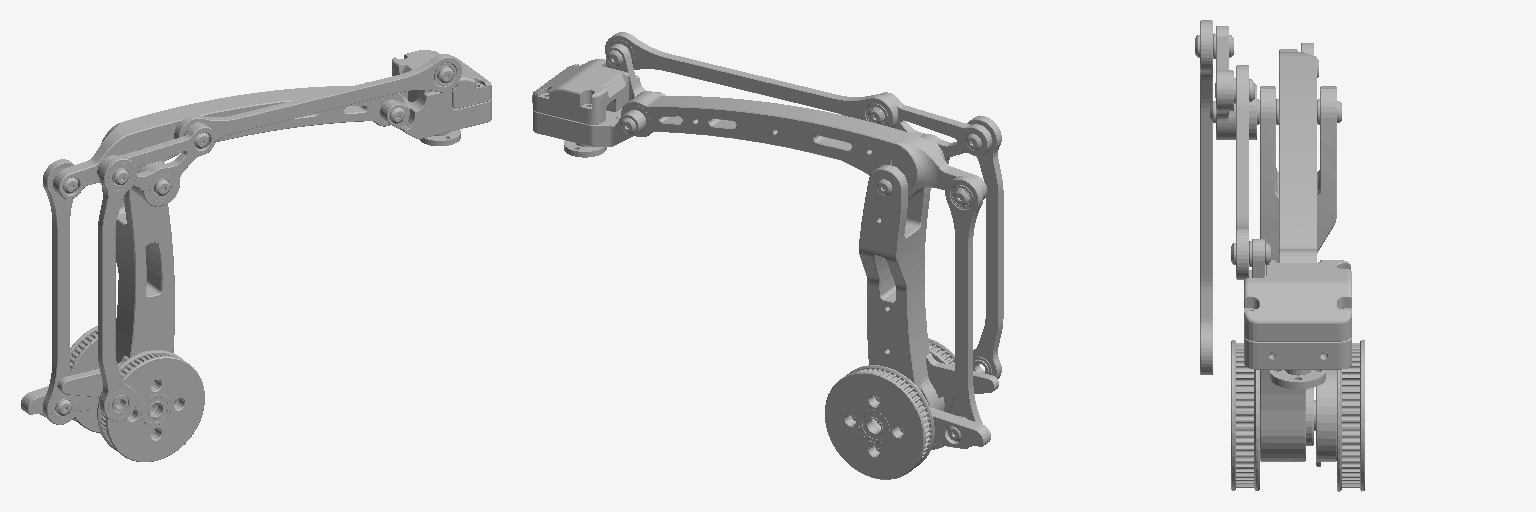
robot.urdf — wlkata_mt4_description:
<?xml version="1.0" encoding="utf-8"?>
<!-- This URDF was automatically created by SolidWorks to URDF Exporter! Originally created by Stephen Brawner (brawner@gmail.com) 
     Commit Version: 1.6.0-4-g7f85cfe  Build Version: 1.6.7995.38578
     For more information, please see http://wiki.ros.org/sw_urdf_exporter -->
<robot
  name="wlkata_mt4_description">
  <link
    name="base_link">
    <inertial>
      <origin
        xyz="0.02703 -0.00052926 0.030287"
        rpy="0 0 0" />
      <mass
        value="2.0466" />
      <inertia
        ixx="0.0019593"
        ixy="-2.3537E-06"
        ixz="2.9495E-06"
        iyy="0.0018116"
        iyz="-1.2137E-06"
        izz="0.0035737" />
    </inertial>
    <visual>
      <origin
        xyz="0 0 0"
        rpy="0 0 0" />
      <geometry>
        <mesh
          filename="package://wlkata_mt4_description/meshes/base_link.STL" />
      </geometry>
      <material
        name="">
        <color
          rgba="0.75294 0.75294 0.75294 1" />
      </material>
    </visual>
    <collision>
      <origin
        xyz="0 0 0"
        rpy="0 0 0" />
      <geometry>
        <mesh
          filename="package://wlkata_mt4_description/meshes/base_link.STL" />
      </geometry>
    </collision>
  </link>
  <link
    name="link1">
    <inertial>
      <origin
        xyz="0.0092748 -0.00018441 -0.039415"
        rpy="0 0 0" />
      <mass
        value="2.408" />
      <inertia
        ixx="0.00073683"
        ixy="-3.5891E-08"
        ixz="-7.0998E-05"
        iyy="0.0012729"
        iyz="6.892E-08"
        izz="0.0011934" />
    </inertial>
    <visual>
      <origin
        xyz="0 0 0"
        rpy="0 0 0" />
      <geometry>
        <mesh
          filename="package://wlkata_mt4_description/meshes/link1.STL" />
      </geometry>
      <material
        name="">
        <color
          rgba="0.75294 0.75294 0.75294 1" />
      </material>
    </visual>
    <collision>
      <origin
        xyz="0 0 0"
        rpy="0 0 0" />
      <geometry>
        <mesh
          filename="package://wlkata_mt4_description/meshes/link1.STL" />
      </geometry>
    </collision>
  </link>
  <joint
    name="joint1"
    type="revolute">
    <origin
      xyz="0 0 0.14"
      rpy="0 0 0" />
    <parent
      link="base_link" />
    <child
      link="link1" />
    <axis
      xyz="0 0 1" />
    <limit
      lower="-2.094"
      upper="2.443"
      effort="100.1"
      velocity="3.14" />
  </joint>
  <link
    name="link2">
    <inertial>
      <origin
        xyz="0.00164684229395519 -0.0395683489030114 -0.00868750450635196"
        rpy="0 0 0" />
      <mass
        value="0.710878068128731" />
      <inertia
        ixx="0.000932704854635179"
        ixy="3.31522799537786E-07"
        ixz="8.00522543080623E-07"
        iyy="0.000109060102432217"
        iyz="4.44610873064812E-05"
        izz="0.000976430617308653" />
    </inertial>
    <visual>
      <origin
        xyz="0 0 0"
        rpy="0 0 0" />
      <geometry>
        <mesh
          filename="package://wlkata_mt4_description/meshes/link2.STL" />
      </geometry>
      <material
        name="">
        <color
          rgba="0.752941176470588 0.752941176470588 0.752941176470588 1" />
      </material>
    </visual>
    <collision>
      <origin
        xyz="0 0 0"
        rpy="0 0 0" />
      <geometry>
        <mesh
          filename="package://wlkata_mt4_description/meshes/link2.STL" />
      </geometry>
    </collision>
  </link>
  <joint
    name="joint2"
    type="revolute">
    <origin
      xyz="0.046 0 0"
      rpy="-1.5708 0 0" />
    <parent
      link="link1" />
    <child
      link="link2" />
    <axis
      xyz="0 0 1" />
    <limit
      lower="-0.575"
      upper="0.994"
      effort="100.1"
      velocity="3.14" />
  </joint>
  <link
    name="link5">
    <inertial>
      <origin
        xyz="-0.000398083211439859 -0.00844918862583643 -0.0264979652131019"
        rpy="0 0 0" />
      <mass
        value="0.0832782808336382" />
      <inertia
        ixx="7.87783820445832E-06"
        ixy="1.2365433026123E-06"
        ixz="-3.05548807270531E-07"
        iyy="1.64719975974359E-05"
        iyz="-1.28549309751977E-06"
        izz="2.19922200829749E-05" />
    </inertial>
    <visual>
      <origin
        xyz="0 0 0"
        rpy="0 0 0" />
      <geometry>
        <mesh
          filename="package://wlkata_mt4_description/meshes/link5.STL" />
      </geometry>
      <material
        name="">
        <color
          rgba="0.752941176470588 0.752941176470588 0.752941176470588 1" />
      </material>
    </visual>
    <collision>
      <origin
        xyz="0 0 0"
        rpy="0 0 0" />
      <geometry>
        <mesh
          filename="package://wlkata_mt4_description/meshes/link5.STL" />
      </geometry>
    </collision>
  </link>
  <joint
    name="joint5"
    type="continuous">
    <origin
      xyz="0 -0.13 0"
      rpy="0 0 0" />
    <parent
      link="link2" />
    <child
      link="link5" />
    <axis
      xyz="0 0 -1" />
    <mimic
      joint="joint2"
      multiplier="1"
      offset="0" />
  </joint>
  <link
    name="link3">
    <inertial>
      <origin
        xyz="0.0548052349762136 -0.00832969977765713 -0.000233681966134227"
        rpy="0 0 0" />
      <mass
        value="0.384078376095662" />
      <inertia
        ixx="2.76979706890859E-05"
        ixy="-1.30973106427895E-05"
        ixz="-7.02719520417806E-06"
        iyy="0.00101454549136257"
        iyz="4.11637178095307E-07"
        izz="0.00102898731974257" />
    </inertial>
    <visual>
      <origin
        xyz="0 0 0"
        rpy="0 0 0" />
      <geometry>
        <mesh
          filename="package://wlkata_mt4_description/meshes/link3.STL" />
      </geometry>
      <material
        name="">
        <color
          rgba="0.752941176470588 0.752941176470588 0.752941176470588 1" />
      </material>
    </visual>
    <collision>
      <origin
        xyz="0 0 0"
        rpy="0 0 0" />
      <geometry>
        <mesh
          filename="package://wlkata_mt4_description/meshes/link3.STL" />
      </geometry>
    </collision>
  </link>
  <joint
    name="joint3"
    type="revolute">
    <origin
      xyz="0 0 0"
      rpy="0 0 0" />
    <parent
      link="link5" />
    <child
      link="link3" />
    <axis
      xyz="0 0 1" />
    <limit
      lower="-0.244"
      upper="0.994"
      effort="100.1"
      velocity="3.14" />
  </joint>
  <link
    name="link6">
    <inertial>
      <origin
        xyz="0.0302922081649755 -0.00126749630980938 0.00126987704683693"
        rpy="0 0 0" />
      <mass
        value="0.295630442014825" />
      <inertia
        ixx="5.75384337469486E-05"
        ixy="6.01160743822192E-06"
        ixz="4.11650139108646E-07"
        iyy="9.95695431877672E-05"
        iyz="-4.40972127717323E-06"
        izz="6.44078564975212E-05" />
    </inertial>
    <visual>
      <origin
        xyz="0 0 0"
        rpy="0 0 0" />
      <geometry>
        <mesh
          filename="package://wlkata_mt4_description/meshes/link6.STL" />
      </geometry>
      <material
        name="">
        <color
          rgba="0.752941176470588 0.752941176470588 0.752941176470588 1" />
      </material>
    </visual>
    <collision>
      <origin
        xyz="0 0 0"
        rpy="0 0 0" />
      <geometry>
        <mesh
          filename="package://wlkata_mt4_description/meshes/link6.STL" />
      </geometry>
    </collision>
  </link>
  <joint
    name="joint6"
    type="continuous">
    <origin
      xyz="0.15 0 0"
      rpy="-3.1416 0 0" />
    <parent
      link="link3" />
    <child
      link="link6" />
    <axis
      xyz="0 0 -1" />
    <mimic
      joint="joint3"
      multiplier="-1"
      offset="0" />
  </joint>
  <link
    name="link4">
    <inertial>
      <origin
        xyz="-3.62722907265578E-10 -1.47645093697032E-09 0.00403306620385582"
        rpy="0 0 0" />
      <mass
        value="0.0137742689049151" />
      <inertia
        ixx="4.84102067021234E-07"
        ixy="1.4786634242315E-09"
        ixz="2.05307036870248E-14"
        iyy="4.84102314201502E-07"
        iyz="8.0411428033963E-14"
        izz="5.95069606748532E-07" />
    </inertial>
    <visual>
      <origin
        xyz="0 0 0"
        rpy="0 0 0" />
      <geometry>
        <mesh
          filename="package://wlkata_mt4_description/meshes/link4.STL" />
      </geometry>
      <material
        name="">
        <color
          rgba="0.752941176470588 0.752941176470588 0.752941176470588 1" />
      </material>
    </visual>
    <collision>
      <origin
        xyz="0 0 0"
        rpy="0 0 0" />
      <geometry>
        <mesh
          filename="package://wlkata_mt4_description/meshes/link4.STL" />
      </geometry>
    </collision>
  </link>
  <joint
    name="joint4"
    type="revolute">
    <origin
      xyz="0.035 -0.027431 0"
      rpy="-1.5708 0 0" />
    <parent
      link="link6" />
    <child
      link="link4" />
    <axis
      xyz="0 0 1" />
    <limit
      lower="-3.141"
      upper="3.141"
      effort="100.1"
      velocity="3.14" />
  </joint>
  <link
    name="link8">
    <inertial>
      <origin
        xyz="-2.96984659087229E-15 -1.66533453693773E-16 3.15625799456324E-05"
        rpy="0 0 0" />
      <mass
        value="0.00404919792872912" />
      <inertia
        ixx="3.4021543206253E-08"
        ixy="-2.57664522482417E-26"
        ixz="4.61691223340672E-25"
        iyy="3.4021543206253E-08"
        iyz="1.951345004771E-23"
        izz="2.53236484097191E-08" />
    </inertial>
    <visual>
      <origin
        xyz="0 0 0"
        rpy="0 0 0" />
      <geometry>
        <mesh
          filename="package://wlkata_mt4_description/meshes/link8.STL" />
      </geometry>
      <material
        name="">
        <color
          rgba="0.752941176470588 0.752941176470588 0.752941176470588 1" />
      </material>
    </visual>
    <collision>
      <origin
        xyz="0 0 0"
        rpy="0 0 0" />
      <geometry>
        <mesh
          filename="package://wlkata_mt4_description/meshes/link8.STL" />
      </geometry>
    </collision>
  </link>
  <joint
    name="joint8"
    type="continuous">
    <origin
      xyz="-0.04 0 0"
      rpy="-3.1416 0 0" />
    <parent
      link="link3" />
    <child
      link="link8" />
    <axis
      xyz="0 0 -1" />
    <mimic
      joint="joint2"
      multiplier="1"
      offset="0" />
  </joint>
  <link
    name="link9">
    <inertial>
      <origin
        xyz="1.84634564581732E-11 -0.0649999992918987 -0.00347881894556013"
        rpy="0 0 0" />
      <mass
        value="0.0621687149810038" />
      <inertia
        ixx="0.000100281936424922"
        ixy="5.61613051773521E-18"
        ixz="-7.28578915786166E-16"
        iyy="1.05555754907866E-06"
        iyz="-4.73848869447179E-16"
        izz="0.000101078348871111" />
    </inertial>
    <visual>
      <origin
        xyz="0 0 0"
        rpy="0 0 0" />
      <geometry>
        <mesh
          filename="package://wlkata_mt4_description/meshes/link9.STL" />
      </geometry>
      <material
        name="">
        <color
          rgba="0.752941176470588 0.752941176470588 0.752941176470588 1" />
      </material>
    </visual>
    <collision>
      <origin
        xyz="0 0 0"
        rpy="0 0 0" />
      <geometry>
        <mesh
          filename="package://wlkata_mt4_description/meshes/link9.STL" />
      </geometry>
    </collision>
  </link>
  <joint
    name="joint9"
    type="continuous">
    <origin
      xyz="0 0 0"
      rpy="0 0 0" />
    <parent
      link="link8" />
    <child
      link="link9" />
    <axis
      xyz="0 0 -1" />
    <mimic
      joint="joint3"
      multiplier="-1"
      offset="0" />
  </joint>
  <link
    name="link7">
    <inertial>
      <origin
        xyz="0.074999991135837 1.54999402202094E-10 0.021500000231994"
        rpy="0 0 0" />
      <mass
        value="0.0684204461957199" />
      <inertia
        ixx="1.10159445080306E-06"
        ixy="5.62174417731939E-20"
        ixz="-1.23416483281998E-07"
        iyy="0.000145117090911186"
        iyz="3.49869663483512E-13"
        izz="0.000145933593046846" />
    </inertial>
    <visual>
      <origin
        xyz="0 0 0"
        rpy="0 0 0" />
      <geometry>
        <mesh
          filename="package://wlkata_mt4_description/meshes/link7.STL" />
      </geometry>
      <material
        name="">
        <color
          rgba="0.752941176470588 0.752941176470588 0.752941176470588 1" />
      </material>
    </visual>
    <collision>
      <origin
        xyz="0 0 0"
        rpy="0 0 0" />
      <geometry>
        <mesh
          filename="package://wlkata_mt4_description/meshes/link7.STL" />
      </geometry>
    </collision>
  </link>
  <joint
    name="joint7"
    type="continuous">
    <origin
      xyz="0.024513 -0.020569 0"
      rpy="-3.1416 0 0" />
    <parent
      link="link5" />
    <child
      link="link7" />
    <axis
      xyz="0 0 1" />
    <mimic
      joint="joint3"
      multiplier="-1"
      offset="0" />
  </joint>
  <link
    name="link10">
    <inertial>
      <origin
        xyz="-0.00373573701414555 -0.0649999910552738 -0.0355215951408583"
        rpy="0 0 0" />
      <mass
        value="0.0609758190138201" />
      <inertia
        ixx="9.67051036157404E-05"
        ixy="-6.03490499058941E-18"
        ixz="-7.54325349984243E-09"
        iyy="1.43113021009284E-06"
        iyz="3.22111491821249E-14"
        izz="9.78820902491419E-05" />
    </inertial>
    <visual>
      <origin
        xyz="0 0 0"
        rpy="0 0 0" />
      <geometry>
        <mesh
          filename="package://wlkata_mt4_description/meshes/link10.STL" />
      </geometry>
      <material
        name="">
        <color
          rgba="0.752941176470588 0.752941176470588 0.752941176470588 1" />
      </material>
    </visual>
    <collision>
      <origin
        xyz="0 0 0"
        rpy="0 0 0" />
      <geometry>
        <mesh
          filename="package://wlkata_mt4_description/meshes/link10.STL" />
      </geometry>
    </collision>
  </link>
  <joint
    name="joint10"
    type="continuous">
    <origin
      xyz="0.017746 0 0.015023"
      rpy="-1.5708 0 0" />
    <parent
      link="link1" />
    <child
      link="link10" />
    <axis
      xyz="0 0 1" />
    <mimic
      joint="joint2"
      multiplier="1"
      offset="0" />
  </joint>
  <link
    name="link11">
    <inertial>
      <origin
        xyz="-0.00453231312597646 -6.22016622582322E-05 -0.0173411963300393"
        rpy="0 0 0" />
      <mass
        value="0.288951297935826" />
      <inertia
        ixx="5.08893754354506E-05"
        ixy="2.89259616271662E-07"
        ixz="8.79735664418427E-08"
        iyy="7.73013674192084E-05"
        iyz="6.3938266859348E-08"
        izz="0.00012319519865769" />
    </inertial>
    <visual>
      <origin
        xyz="0 0 0"
        rpy="0 0 0" />
      <geometry>
        <mesh
          filename="package://wlkata_mt4_description/meshes/link11.STL" />
      </geometry>
      <material
        name="">
        <color
          rgba="0.752941176470588 0.752941176470588 0.752941176470588 1" />
      </material>
    </visual>
    <collision>
      <origin
        xyz="0 0 0"
        rpy="0 0 0" />
      <geometry>
        <mesh
          filename="package://wlkata_mt4_description/meshes/link11.STL" />
      </geometry>
    </collision>
  </link>
  <joint
    name="joint11"
    type="continuous">
    <origin
      xyz="0.046 0 0"
      rpy="1.5708 0 0" />
    <parent
      link="link1" />
    <child
      link="link11" />
    <axis
      xyz="0 0 -1" />
    <mimic
      joint="joint3"
      multiplier="1"
      offset="0" />
  </joint>
</robot>

--- Render facts (derived) ---
The picture shows the robot from 3 angles, left to right: view 1: azimuth 30°, elevation 25°; view 2: azimuth 150°, elevation 25°; view 3: azimuth 270°, elevation 25°; orthographic projection.
Model wlkata_mt4_description with 12 links and 11 joints (4 revolute, 7 continuous), rooted at base_link, posed all joints at 0.
Visible links, largest first — view 1: link2, link3, link6, link10, link7, link9, link5, link11; view 2: link2, link3, link11, link6, link7, link9, link10, link5; view 3: link2, link6, link3, link11, link10, link5, link7, link4.
Boxes of the visible links, x1,y1,x2,y2 form: link2: [57, 180, 204, 461]; link3: [53, 86, 404, 198]; link6: [366, 50, 491, 138]; link10: [98, 156, 136, 421]; link7: [174, 54, 461, 140]; link9: [43, 159, 79, 424]; link5: [97, 123, 215, 206]; link11: [21, 326, 100, 433]; link2: [859, 165, 998, 449]; link3: [621, 91, 986, 199]; link11: [825, 365, 990, 479]; link6: [532, 44, 665, 146]; link7: [605, 32, 897, 127]; link9: [945, 176, 982, 423]; link10: [967, 116, 1003, 378]; link5: [868, 92, 991, 163]; link2: [1210, 86, 1341, 490]; link6: [1231, 239, 1351, 369]; link3: [1276, 49, 1319, 262]; link11: [1314, 340, 1364, 491]; link10: [1200, 20, 1212, 374]; link5: [1195, 26, 1259, 139]; link7: [1236, 65, 1248, 279]; link4: [1270, 370, 1325, 388].
Size in the robot's own frame: 0.264 by 0.0661 by 0.1901 metres.
Meshes: 12 distinct files referenced, 10 mesh visuals loaded (10 binary STL); not drawn: 2 (reference not matched to a file when rendering).
